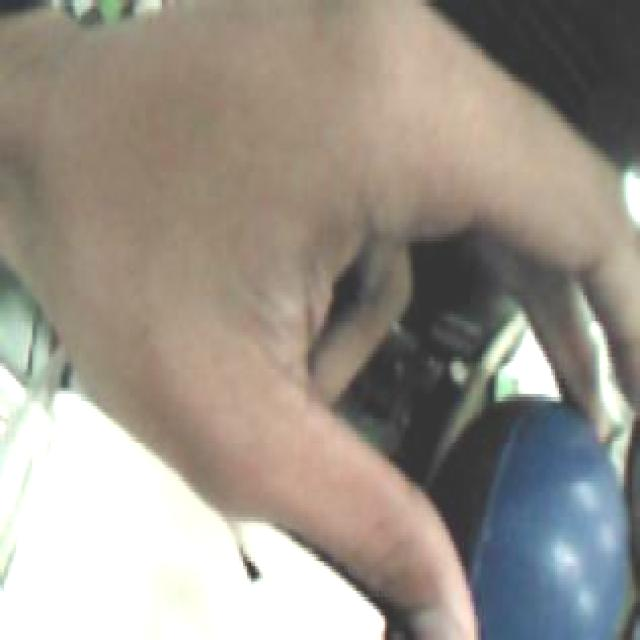BallPurple: (418, 397, 630, 640)
